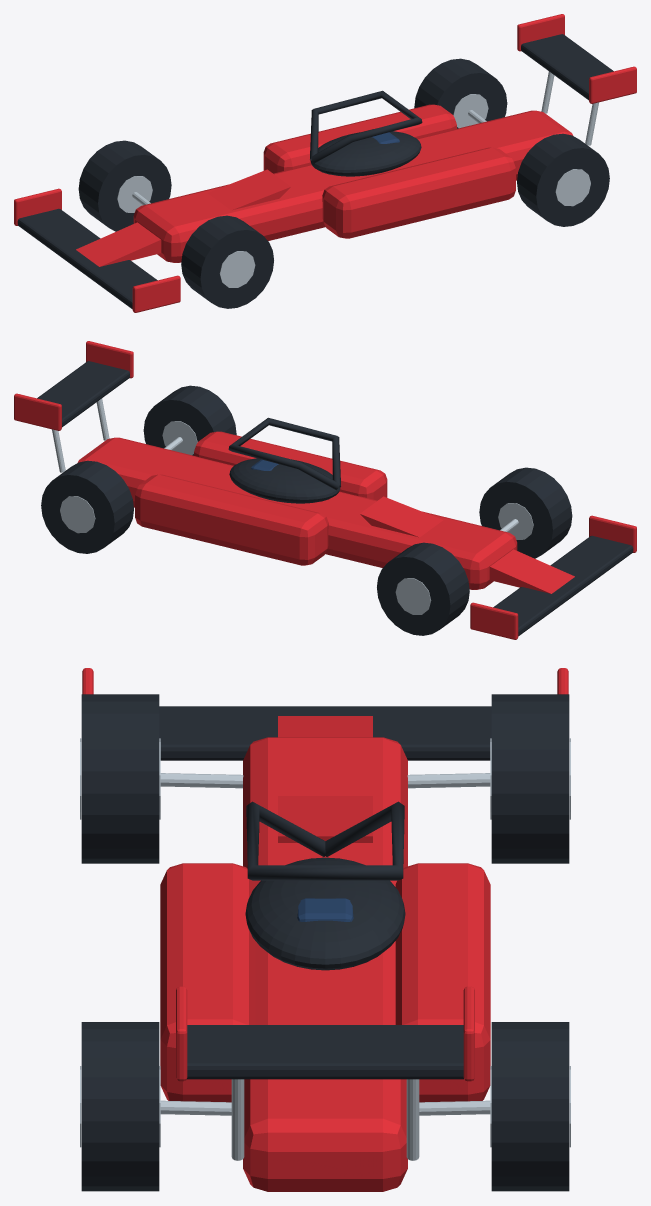
The model's file is formula_1_racing.glb.
3 views of the same model, one above another, from view 1: azimuth 30°, elevation 25°; view 2: azimuth 150°, elevation 25°; view 3: azimuth 270°, elevation 25° (orthographic). The views are drawn at different scales.
Parts seen in each view (by area): view 1: formula_1_racing; view 2: formula_1_racing; view 3: formula_1_racing.
Boxes of the visible parts, box(x1,y1,x2,y2) form: formula_1_racing: box(14, 14, 636, 312); formula_1_racing: box(14, 341, 636, 639); formula_1_racing: box(80, 668, 570, 1191).
Size of the model in its own units: 4.86 by 1.05 by 1.96.
